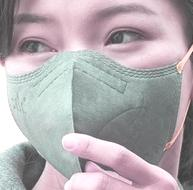with_mask: (1, 1, 193, 190)
